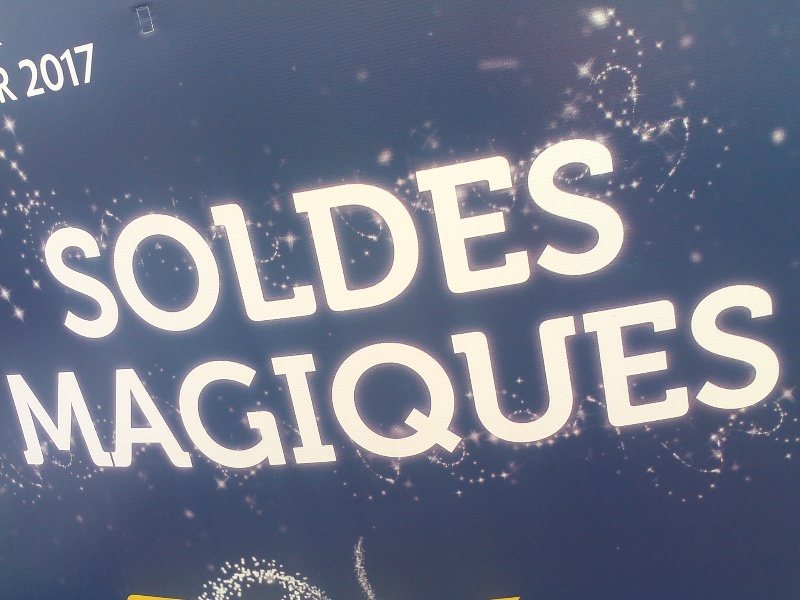text: (49, 132, 64, 351), (65, 132, 80, 351), (81, 132, 96, 351), (97, 132, 112, 351), (113, 132, 128, 351), (129, 132, 144, 351), (145, 132, 160, 351), (161, 132, 176, 351), (177, 132, 192, 351), (193, 132, 208, 351), (209, 132, 224, 351), (225, 132, 240, 351), (241, 132, 256, 351), (257, 132, 272, 351), (273, 132, 288, 351), (289, 132, 304, 351), (305, 132, 320, 351), (321, 132, 336, 351), (337, 132, 352, 351), (353, 132, 368, 351), (369, 132, 384, 351), (385, 132, 400, 351), (401, 132, 416, 351), (417, 132, 432, 351), (433, 132, 448, 351), (449, 132, 464, 351), (465, 132, 480, 351), (481, 132, 496, 351), (497, 132, 512, 351), (513, 132, 528, 351), (529, 132, 544, 351), (545, 132, 560, 351), (561, 132, 576, 351), (577, 132, 592, 351), (593, 132, 608, 351), (609, 132, 624, 351), (17, 280, 32, 486), (33, 280, 48, 486), (49, 280, 64, 486), (65, 280, 80, 486), (81, 280, 96, 486), (97, 280, 112, 486), (113, 280, 128, 486), (129, 280, 144, 486), (145, 280, 160, 486), (161, 280, 176, 486), (177, 280, 192, 486), (193, 280, 208, 486), (209, 280, 224, 486), (225, 280, 240, 486), (241, 280, 256, 486), (257, 280, 272, 486), (273, 280, 288, 486), (289, 280, 304, 486), (305, 280, 320, 486), (321, 280, 336, 486), (337, 280, 352, 486), (353, 280, 368, 486), (369, 280, 384, 486), (385, 280, 400, 486), (401, 280, 416, 486), (417, 280, 432, 486), (433, 280, 448, 486), (449, 280, 464, 486), (465, 280, 480, 486), (481, 280, 496, 486), (497, 280, 512, 486), (513, 280, 528, 486), (529, 280, 544, 486), (545, 280, 560, 486), (561, 280, 576, 486), (577, 280, 592, 486), (593, 280, 608, 486), (609, 280, 624, 486), (625, 280, 640, 486), (641, 280, 656, 486), (657, 280, 672, 486), (673, 280, 688, 486), (689, 280, 704, 486), (705, 280, 720, 486), (721, 280, 736, 486), (737, 280, 752, 486), (753, 280, 768, 486), (769, 280, 784, 486), (36, 132, 48, 351), (5, 280, 16, 486), (625, 132, 631, 351), (17, 42, 32, 99), (33, 42, 48, 99), (49, 42, 64, 99), (65, 42, 80, 99), (81, 42, 94, 99), (1, 59, 16, 104), (785, 280, 788, 486), (17, 59, 19, 104)
